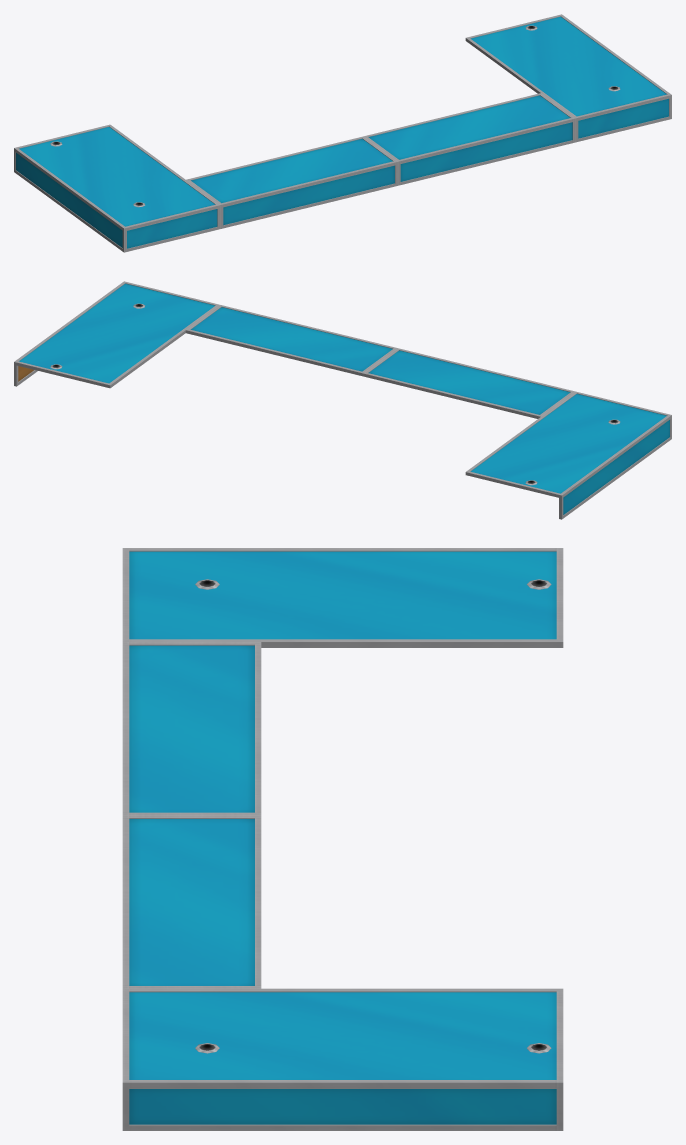
File: jsf_4P_s03_c02_t04_DX.fbx
3 views of the same model, one above another, from view 1: azimuth 30°, elevation 25°; view 2: azimuth 150°, elevation 25°; view 3: azimuth 270°, elevation 25° (orthographic). The views are drawn at different scales.
Parts seen in each view (by area): view 1: jsf_4P_s03_c02_t04_DX; view 2: jsf_4P_s03_c02_t04_DX; view 3: jsf_4P_s03_c02_t04_DX.
Boxes of the visible parts, <box> form: jsf_4P_s03_c02_t04_DX: <box>14,14,671,252</box>; jsf_4P_s03_c02_t04_DX: <box>14,281,671,519</box>; jsf_4P_s03_c02_t04_DX: <box>122,548,563,1130</box>.
Size of the model in its own units: 298 by 12.99 by 104.
